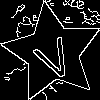V: (27, 27, 78, 84)
